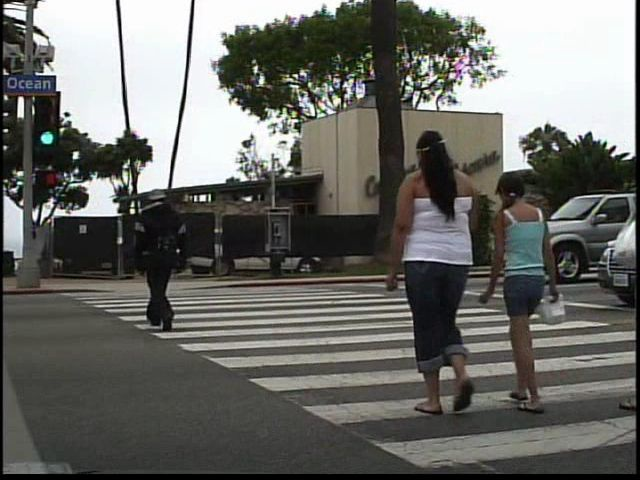person: (388, 125, 500, 426), (503, 165, 575, 426), (126, 176, 192, 338)
